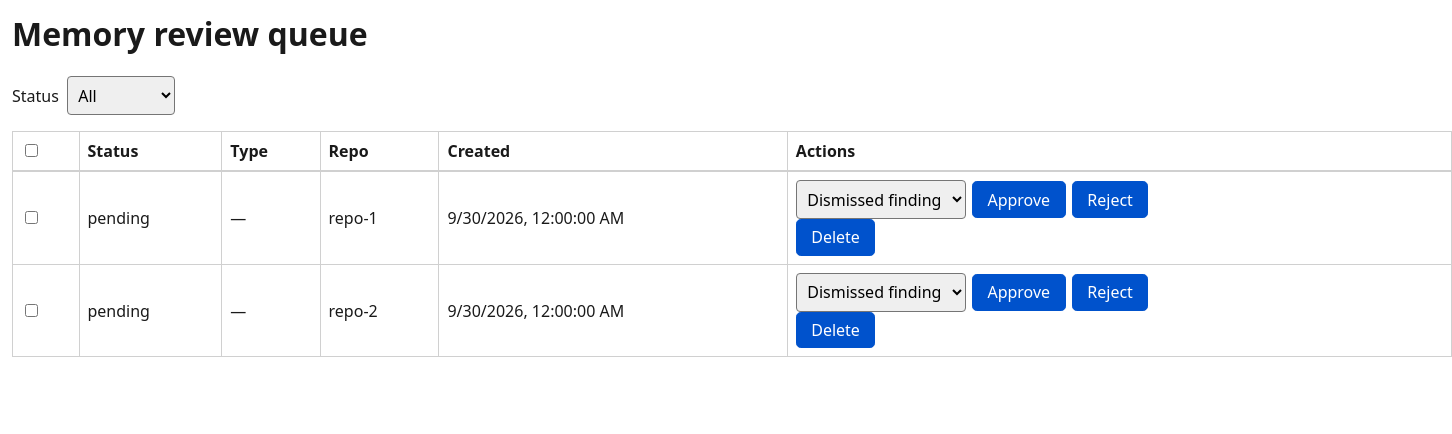
it: MemoryQueueScreen › Admin: a bulk action's partial failure is surfaced, not swallowed
This screenshot has width=1452, height=434.
Check: the text "repo-1" is shown, box [320,172,439,264]
Click the checkbox named "select all pending". click: [32, 151]
box: [25,144,38,157]
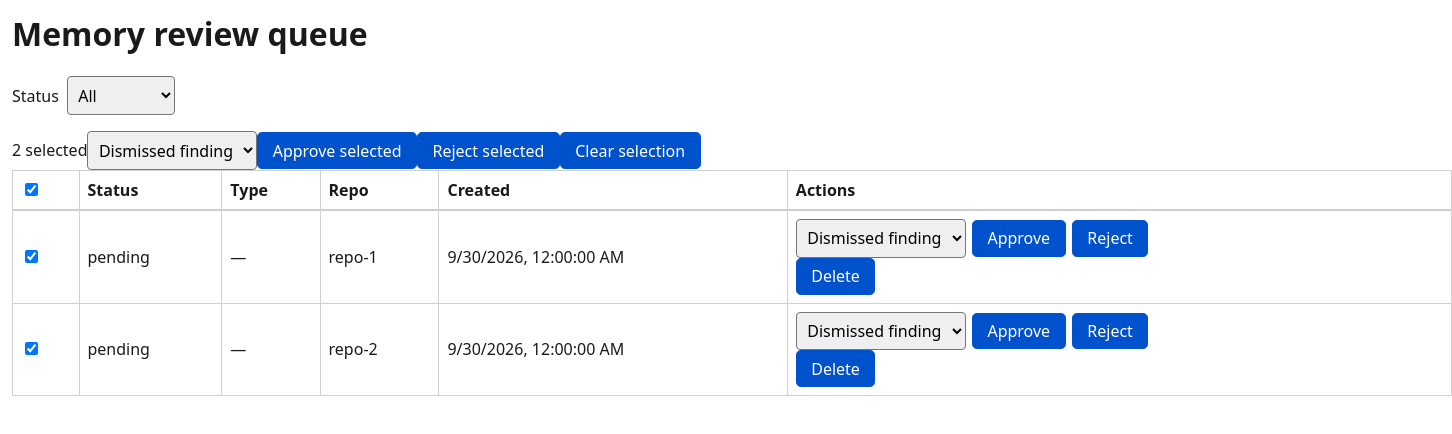
Click the button "Reject selected". click: [488, 151]
box: [417,132,560,169]
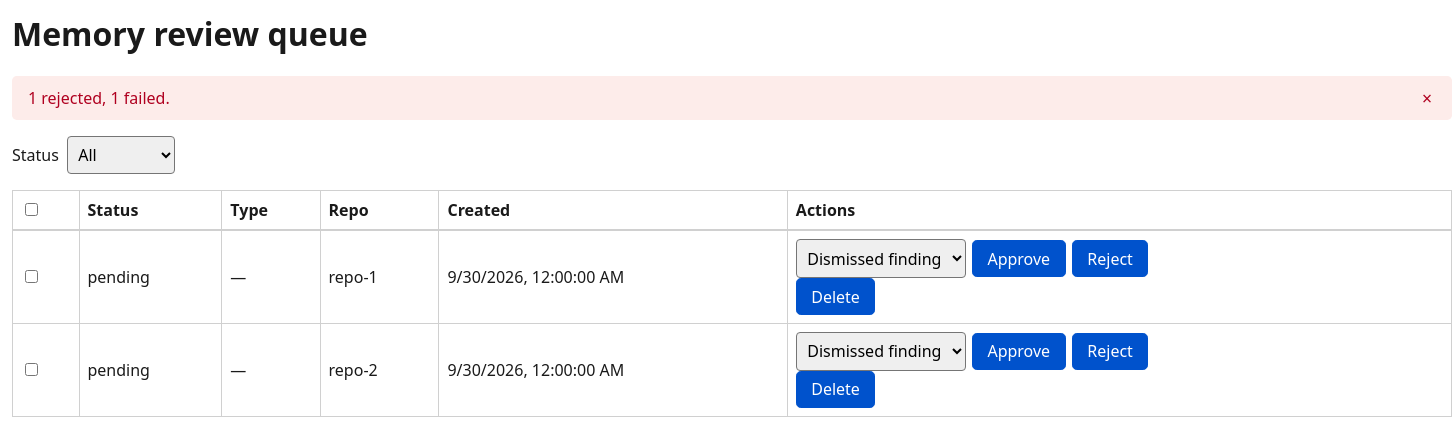
Check: the message with test id "notice" shows "1 rejected, 1 failed", box [28,87,170,109]
